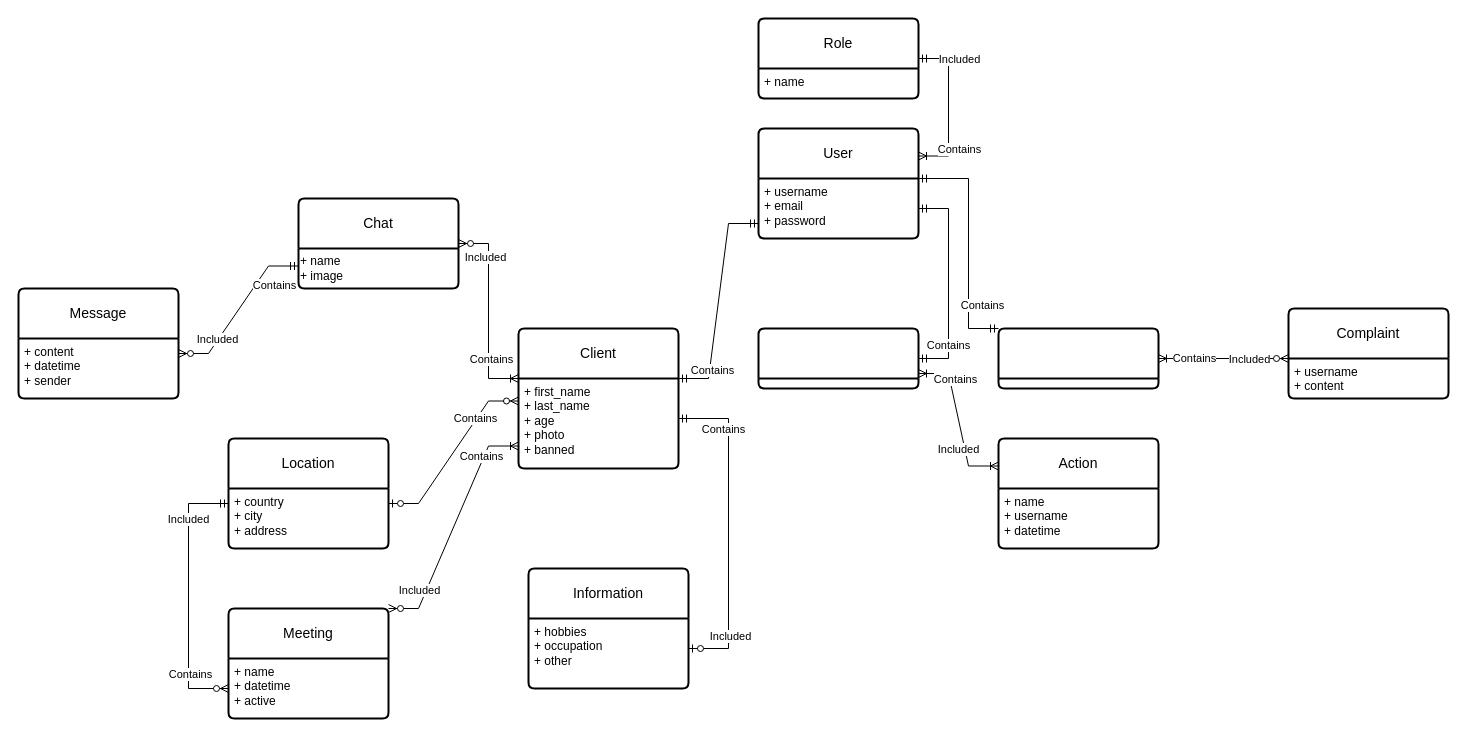
Image size: 1466x744. Some labels were removed from this diagram. Each missing label, with the centre of its shape:
"Admin" goes at point 1078,358.
"Moderaror" goes at point 838,358.
